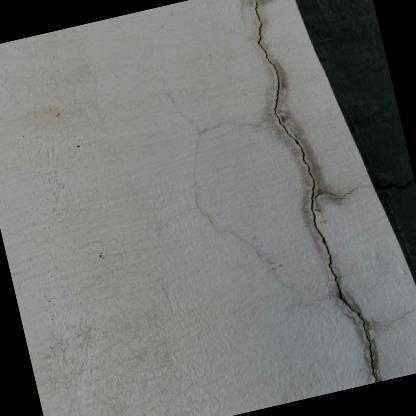crack: (254, 0, 376, 382)
